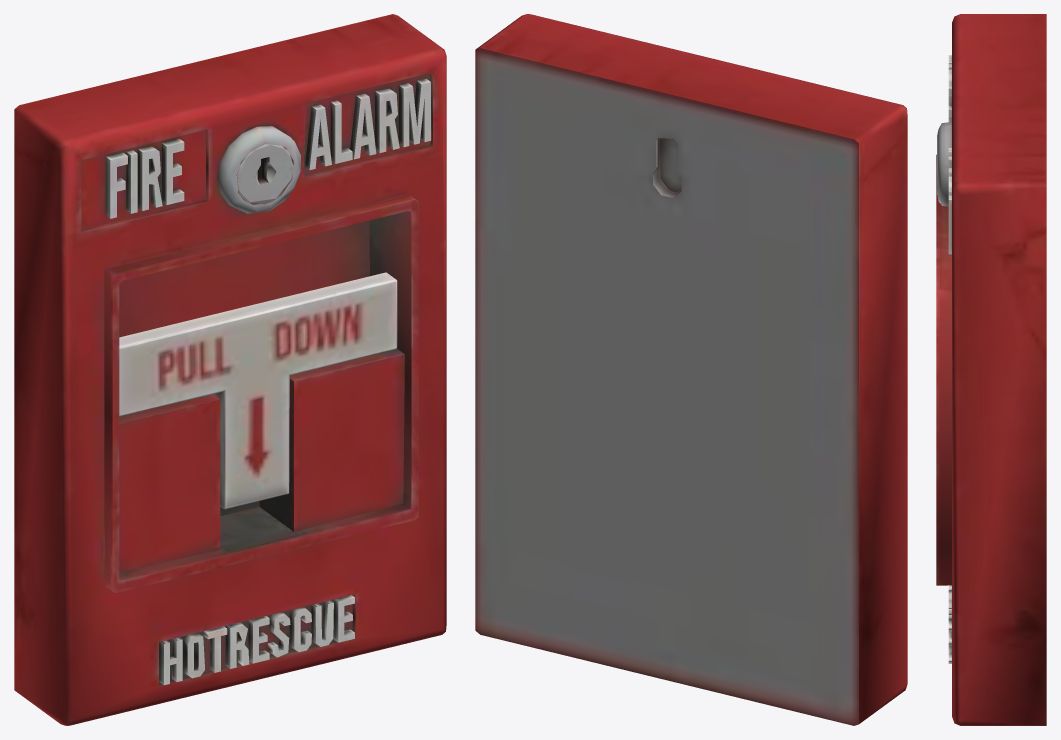
Rendered from fire_alarm.glb.
3 views of the same model, side by side, from view 1: azimuth 30°, elevation 25°; view 2: azimuth 150°, elevation 25°; view 3: azimuth 270°, elevation 25° (orthographic). The views are drawn at different scales.
Visible parts, largest first — view 1: fire_alarm; view 2: fire_alarm; view 3: fire_alarm.
Part boxes in pixels (x1,y1,x2,y2): fire_alarm: [14, 14, 446, 725]; fire_alarm: [475, 14, 907, 725]; fire_alarm: [936, 14, 1046, 725].
Size of the model in its own units: 0.0994 by 0.1436 by 0.0264.
Materials: 1 (1 with a texture image).
